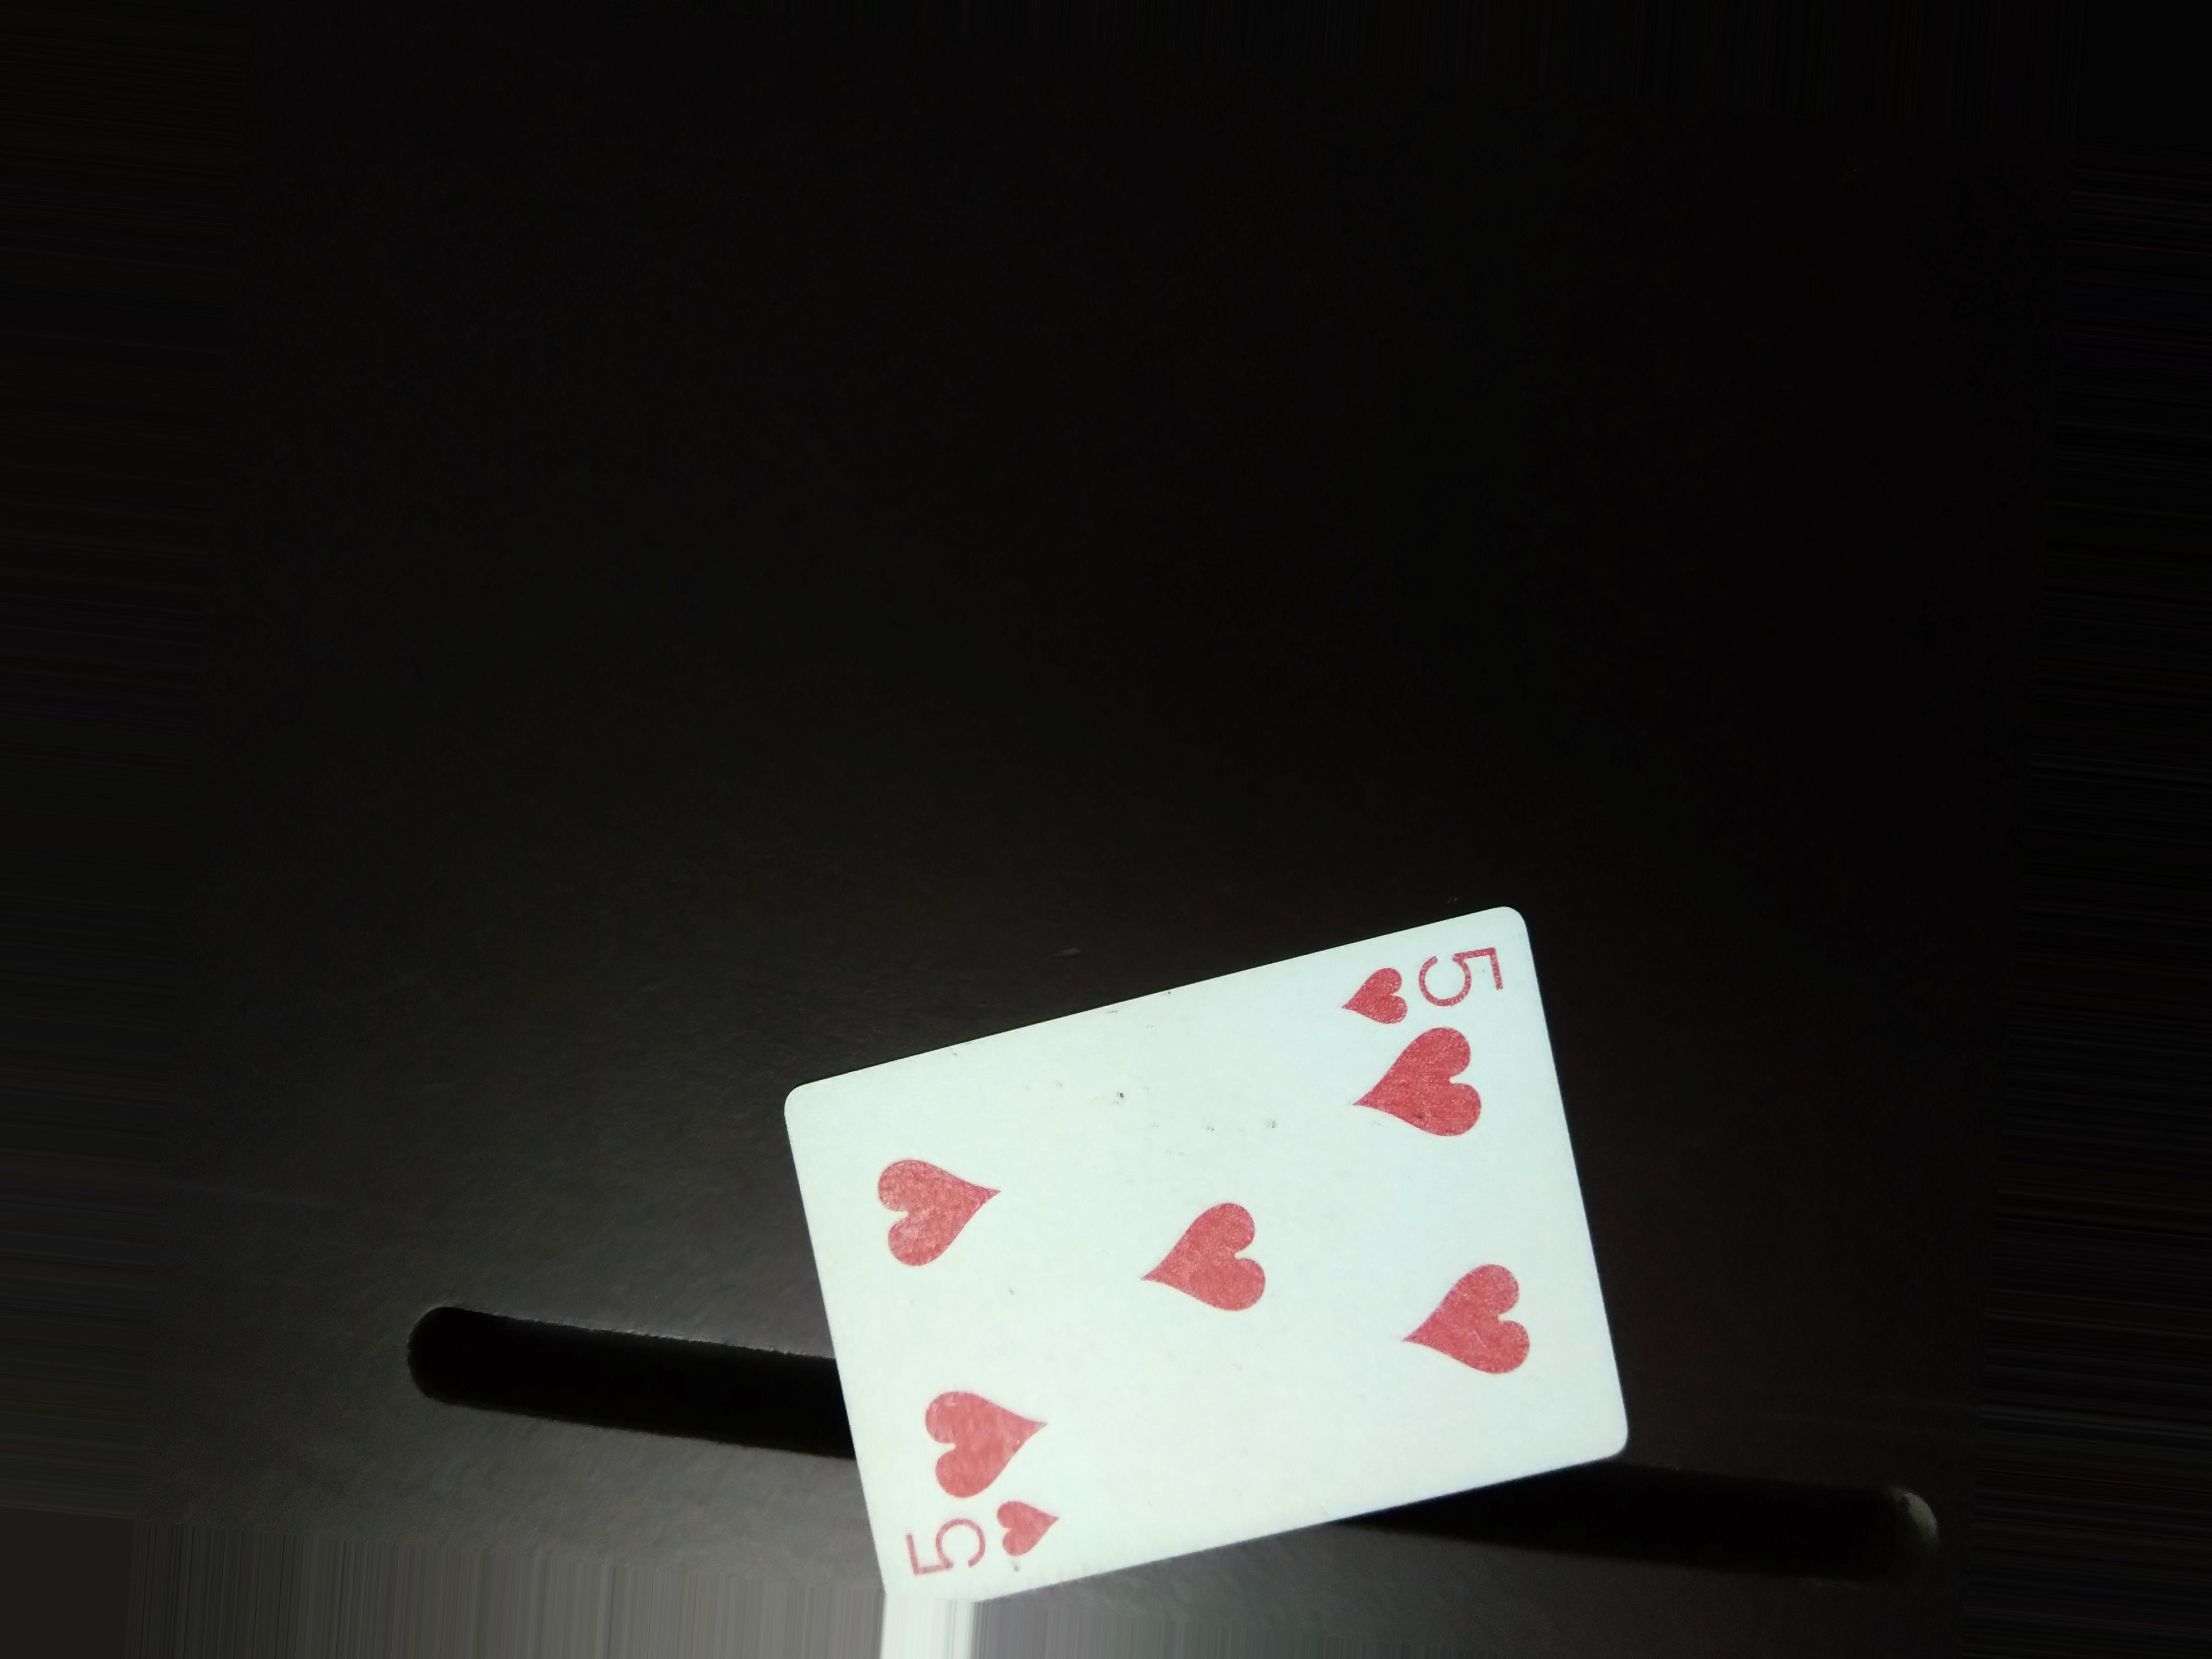5H: (1357, 936, 1533, 1040)
